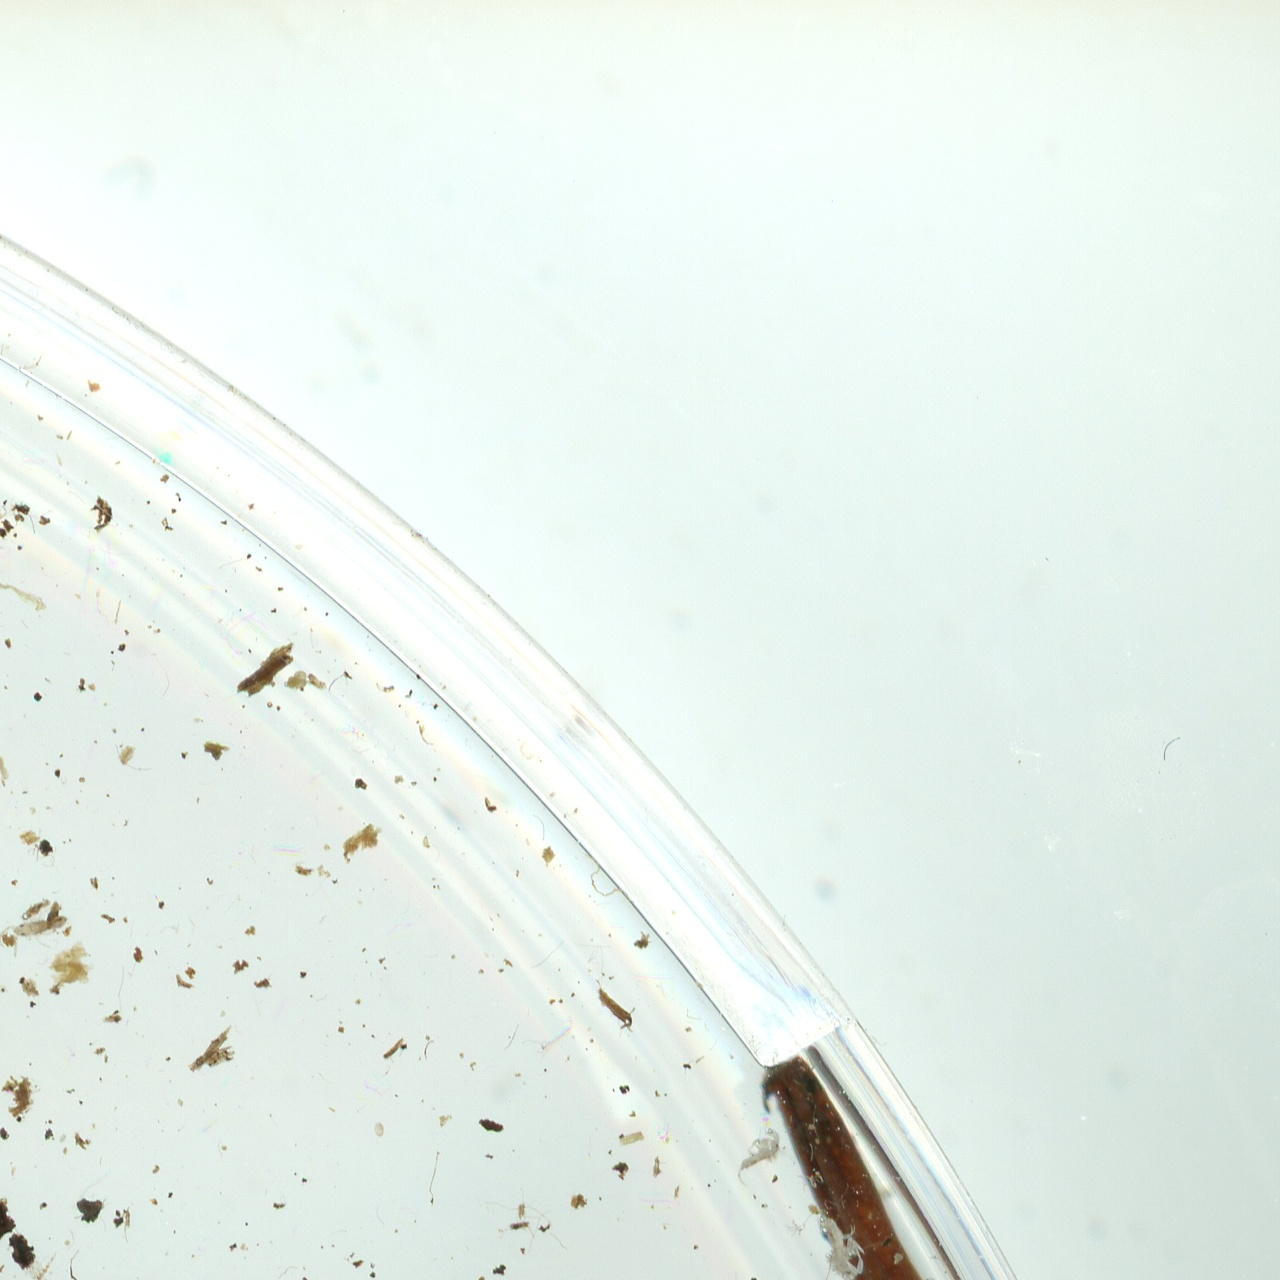arthropod: (803, 1198, 890, 1280), (735, 1125, 784, 1190), (0, 567, 50, 626), (7, 908, 70, 946)
